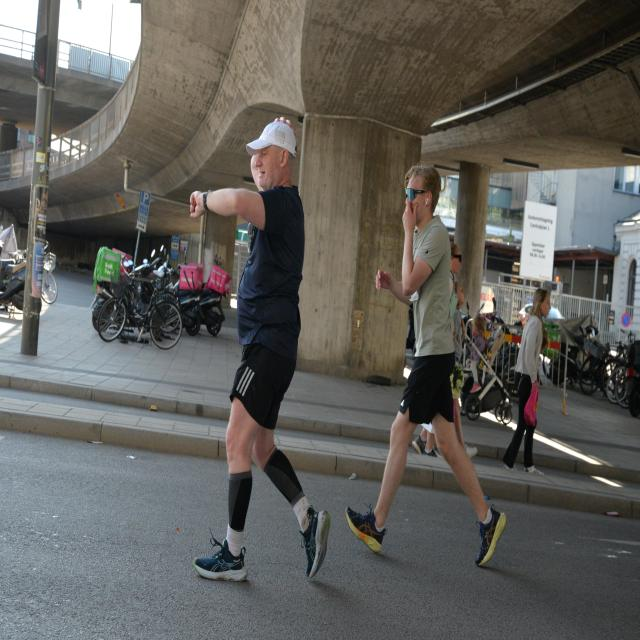runner-detect: (190, 82, 342, 600), (348, 142, 506, 580)
